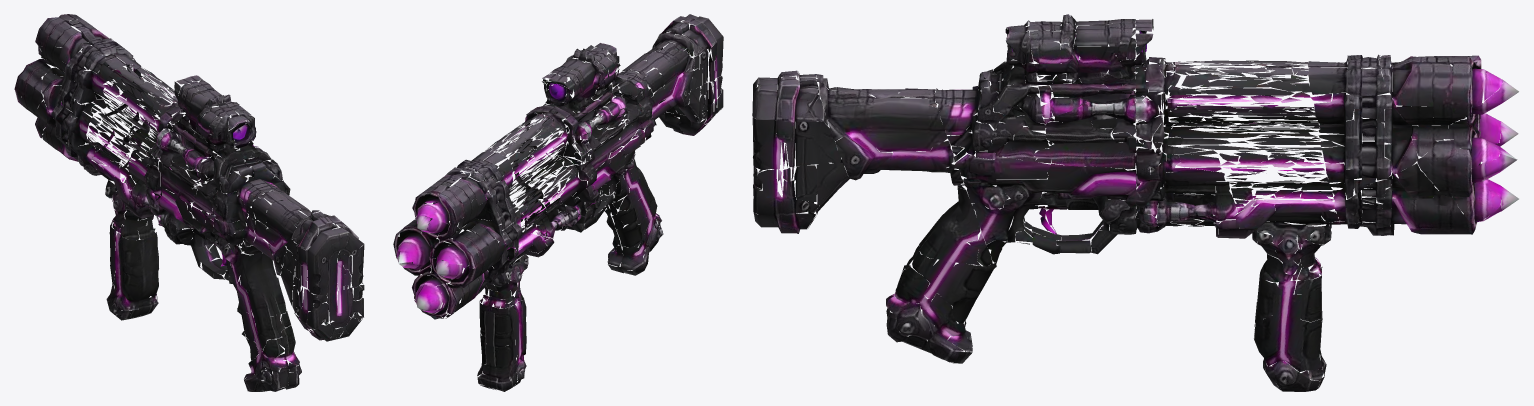
Rendered from bp-lanzacohetes.glb.
3 views of the same model, side by side, from view 1: azimuth 30°, elevation 25°; view 2: azimuth 150°, elevation 25°; view 3: azimuth 270°, elevation 25° (orthographic). The views are drawn at different scales.
Parts seen in each view (by area): view 1: tripo_node_fbfc8672-64ac-4140-9a3e-396f735c48c0; view 2: tripo_node_fbfc8672-64ac-4140-9a3e-396f735c48c0; view 3: tripo_node_fbfc8672-64ac-4140-9a3e-396f735c48c0.
Part boxes in pixels (x1,y1,x2,y2): tripo_node_fbfc8672-64ac-4140-9a3e-396f735c48c0: [14, 14, 364, 391]; tripo_node_fbfc8672-64ac-4140-9a3e-396f735c48c0: [393, 14, 723, 391]; tripo_node_fbfc8672-64ac-4140-9a3e-396f735c48c0: [752, 14, 1518, 391].
Bounding box in the file's own units: 0.1747 × 0.5175 × 0.981.
Materials: 1 (1 with a texture image).
